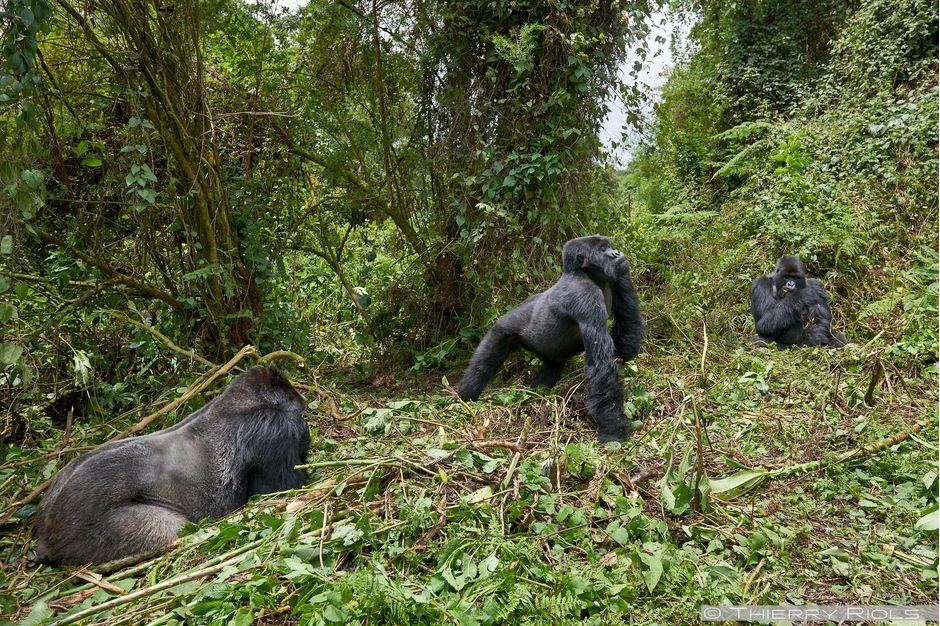gorilla: (31, 360, 311, 569), (453, 231, 651, 450), (743, 249, 860, 355)
